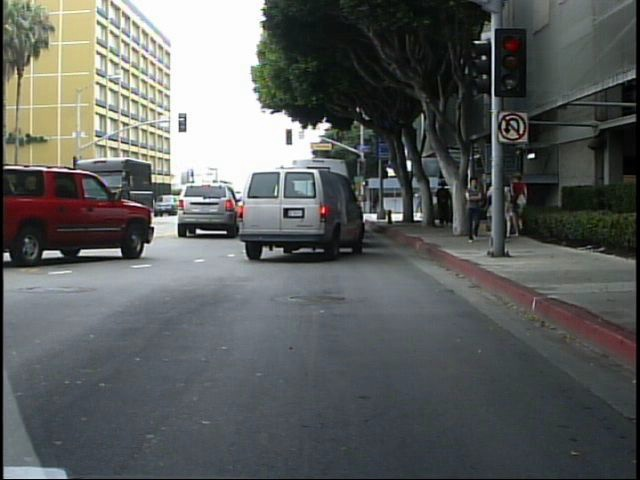person: (496, 171, 520, 253), (467, 175, 487, 245), (514, 171, 534, 239), (433, 175, 454, 230), (412, 185, 424, 217)
